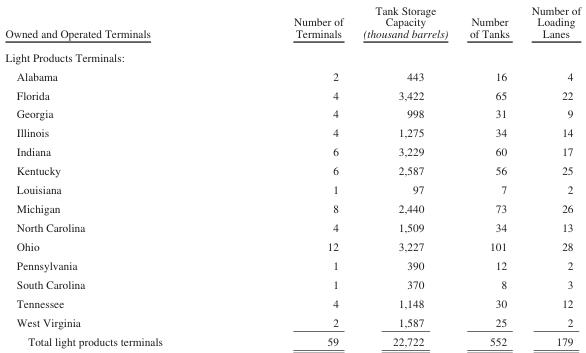table: (4, 3, 580, 347)
table column: (4, 3, 227, 347), (227, 3, 352, 347), (352, 3, 458, 347), (458, 3, 519, 347), (519, 3, 580, 347)
table column header: (4, 3, 580, 44)
table projected row header: (4, 44, 580, 66)
table row: (4, 3, 580, 44), (4, 44, 580, 66), (4, 66, 580, 85), (4, 85, 580, 104), (4, 104, 580, 123), (4, 123, 580, 142), (4, 160, 580, 179), (4, 179, 580, 198), (4, 198, 580, 217), (4, 217, 580, 236), (4, 236, 580, 255), (4, 255, 580, 274), (4, 274, 580, 293), (4, 293, 580, 312), (4, 312, 580, 331), (4, 142, 580, 160), (4, 331, 580, 347)
